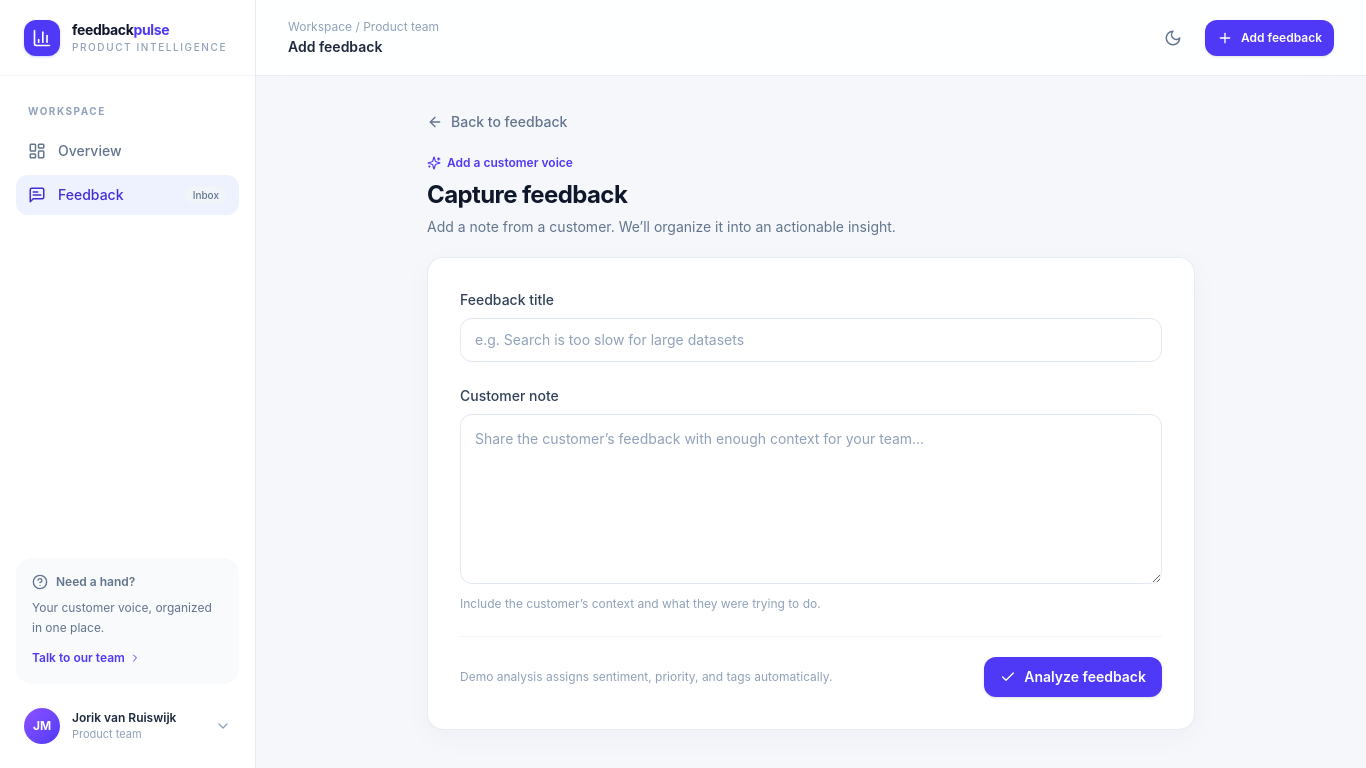
it: new feedback form › shows helpful validation errors when submitted empty
The width and height of the screenshot is (1366, 768).
Click the button "Analyze feedback" at (1073, 677), box [984,657,1162,697]
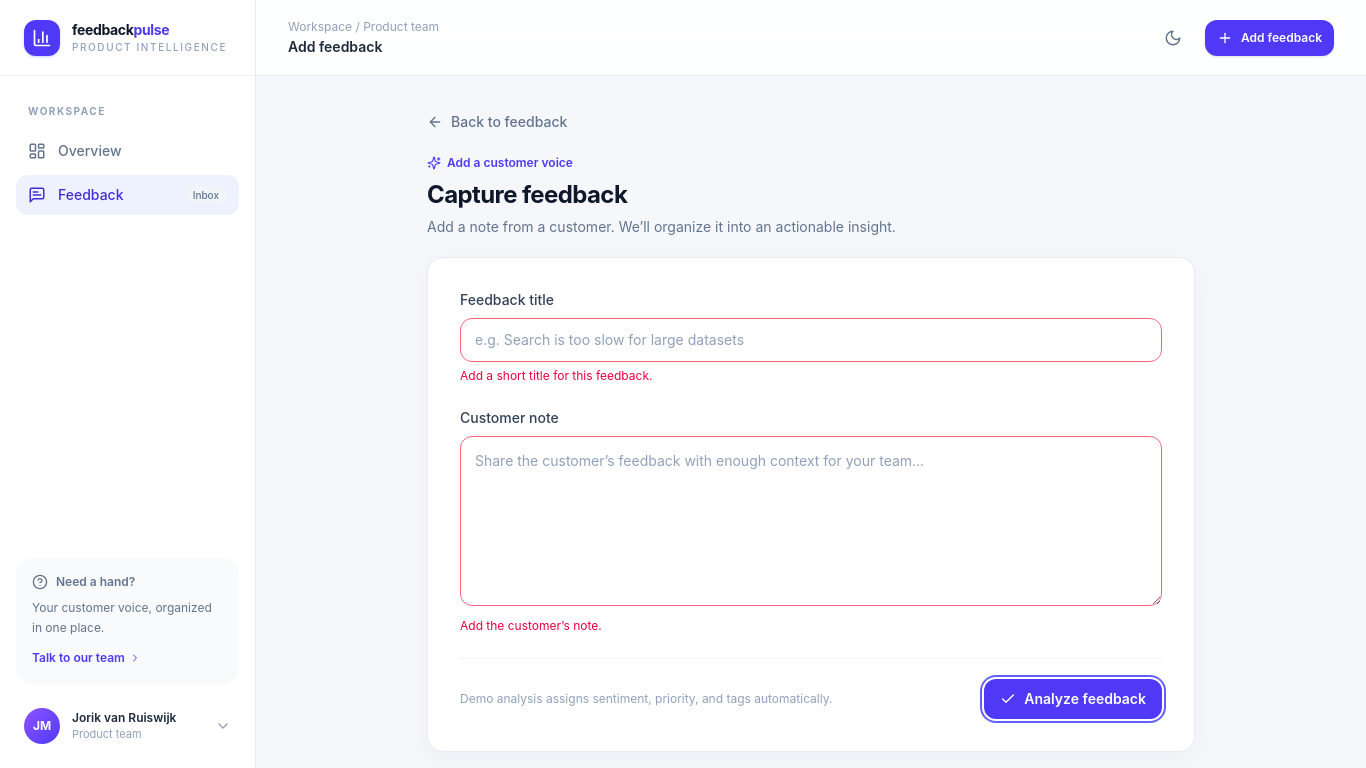
Expected: the text "Add a short title for this feedback." is shown, [460,368,652,383]
Expected: the text "Add the customer’s note." is shown, [460,618,602,633]
